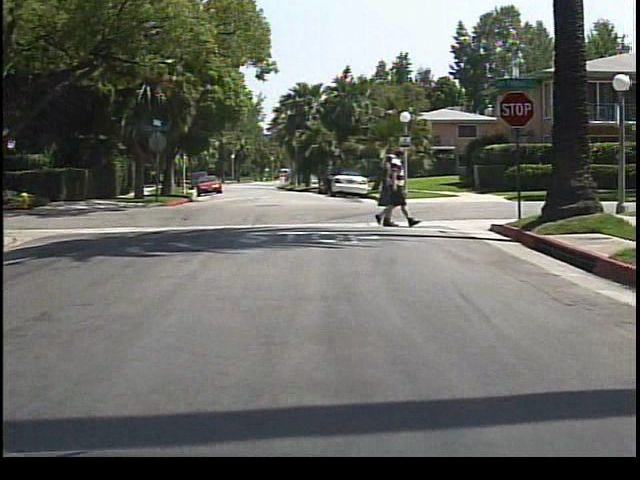person: (383, 148, 418, 229), (371, 151, 395, 228)
